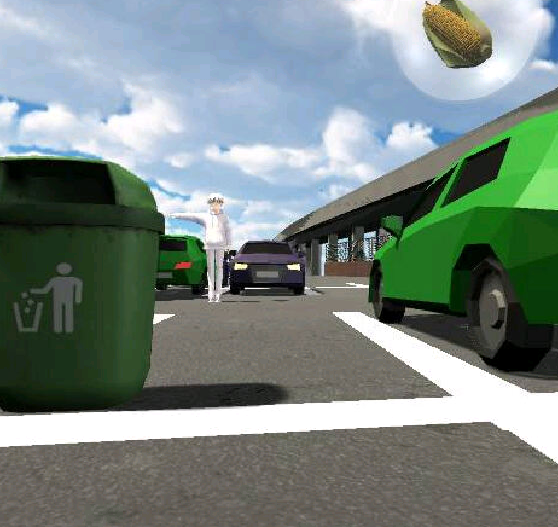singleP_left: (169, 186, 235, 306)
